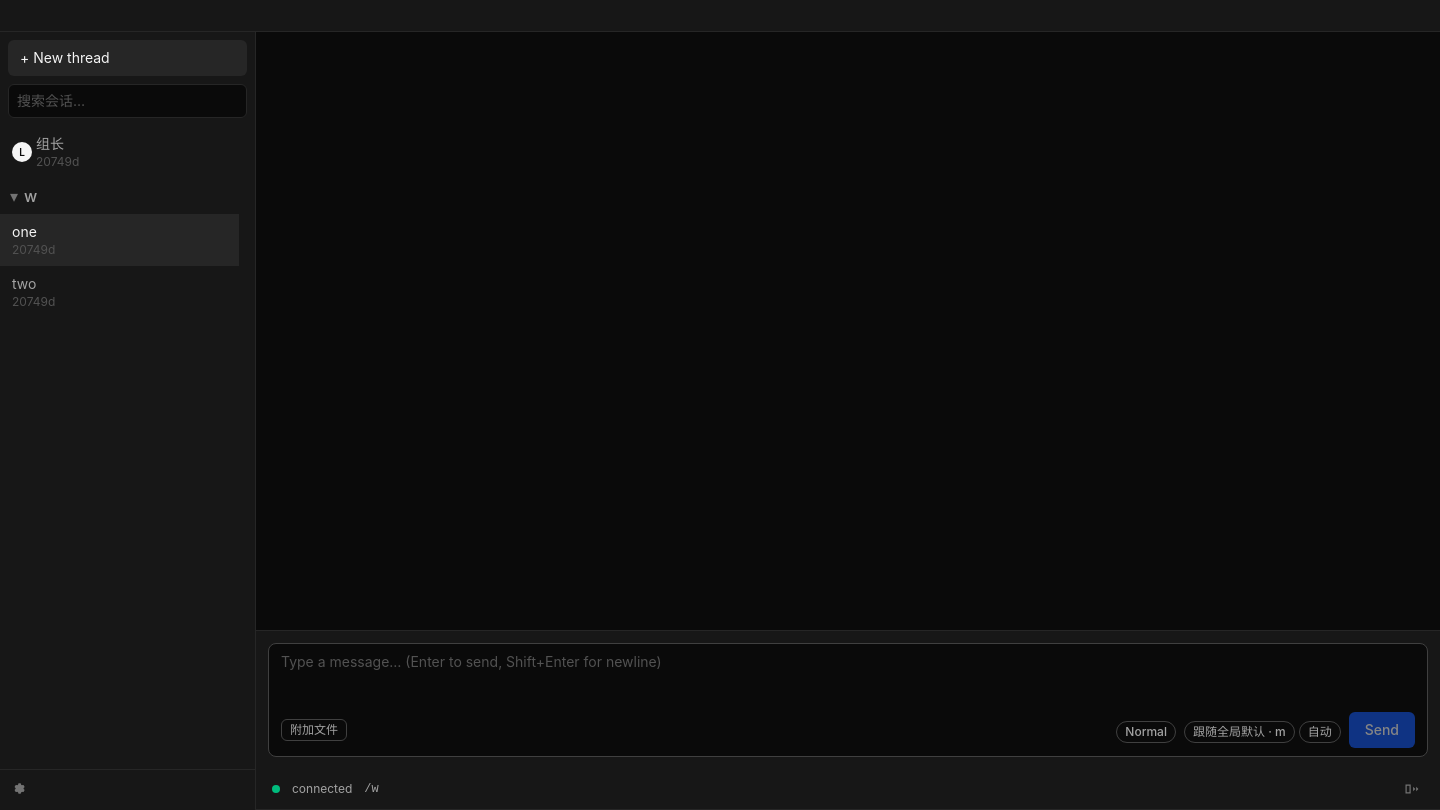
Test case: App YOLO wiring › reflects the new thread's mode when switching threads
The width and height of the screenshot is (1440, 810).
Check: the button with aria-label "mode" reads "Normal", box 1116,720 -> 1176,742
// Clicking the sidebar row bubbles to its onSelect handler.
Click the text "two" at (24, 284), box 12,274 -> 36,294
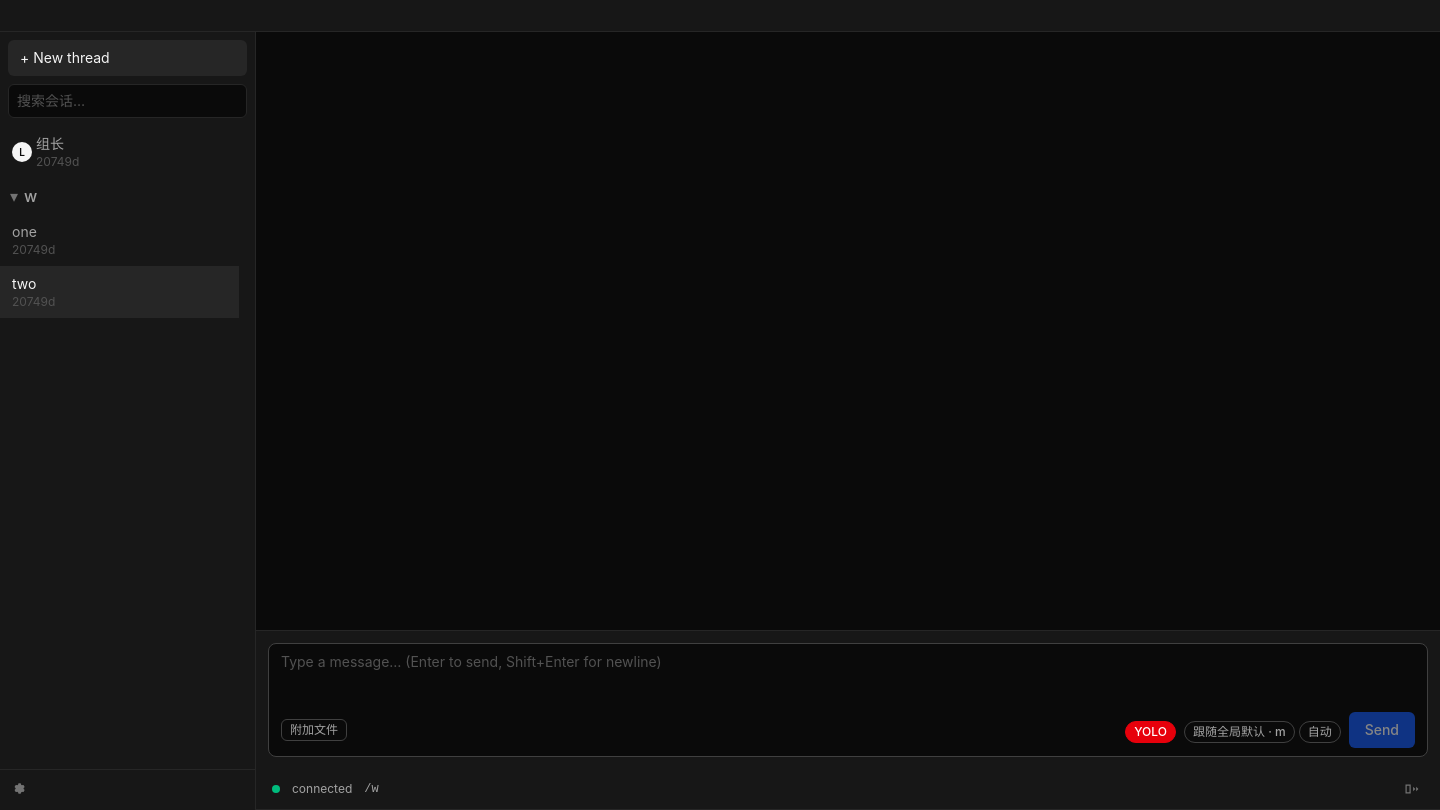
Check: the button with aria-label "mode" reads "YOLO", box 1125,720 -> 1176,742
